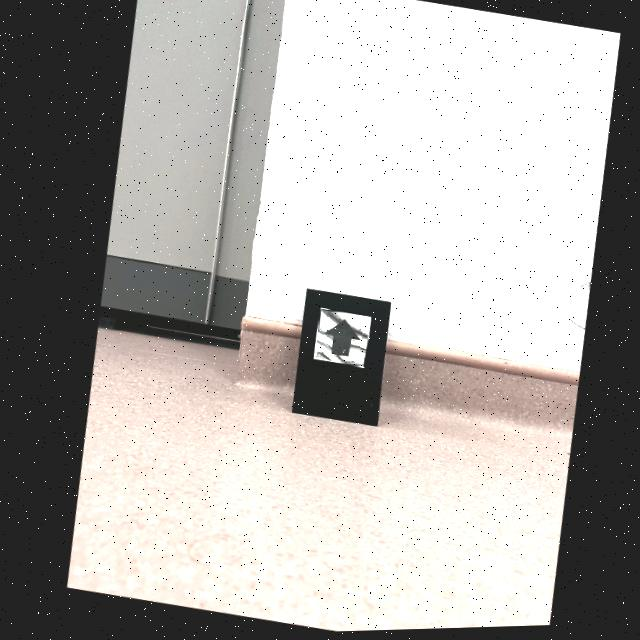UP: (318, 322, 356, 360)
